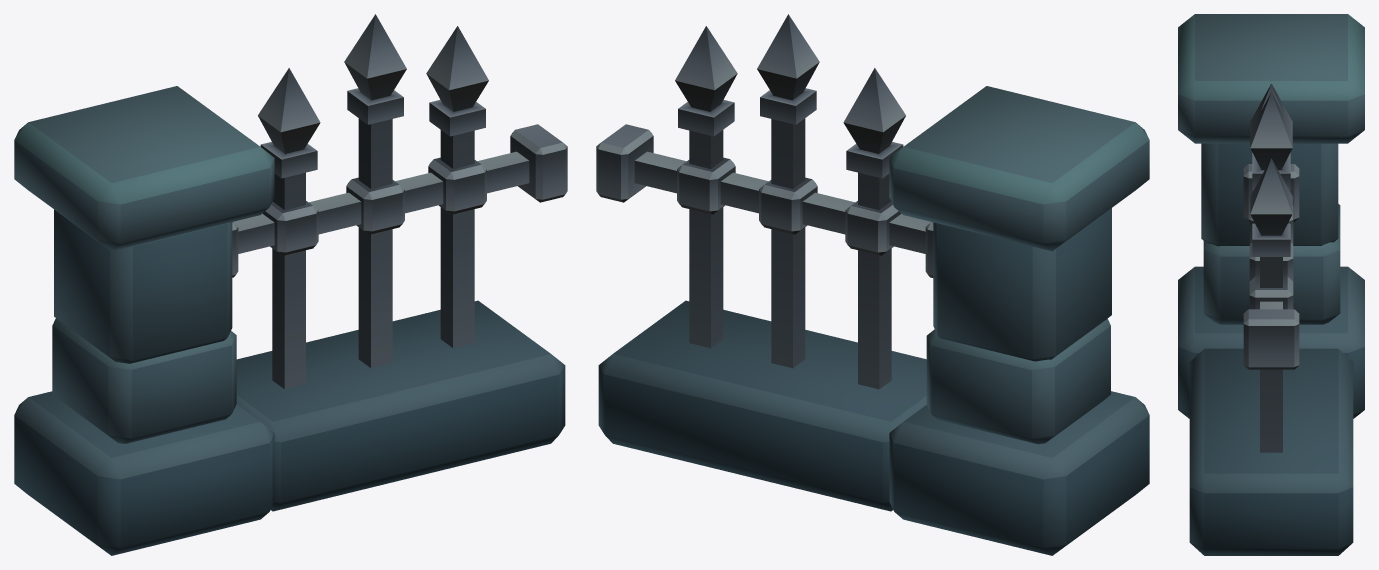
The model's file is fence_element_1.fbx.
3 views of the same model, side by side, from view 1: azimuth 30°, elevation 25°; view 2: azimuth 150°, elevation 25°; view 3: azimuth 270°, elevation 25° (orthographic). The views are drawn at different scales.
Visible parts, largest first — view 1: fence_element_1; view 2: fence_element_1; view 3: fence_element_1.
Boxes of the visible parts, bbox=[...] form: fence_element_1: bbox=[14, 14, 567, 555]; fence_element_1: bbox=[596, 14, 1149, 555]; fence_element_1: bbox=[1178, 14, 1364, 555].
Bounding box in the file's own units: 214 × 179 × 75.69.
